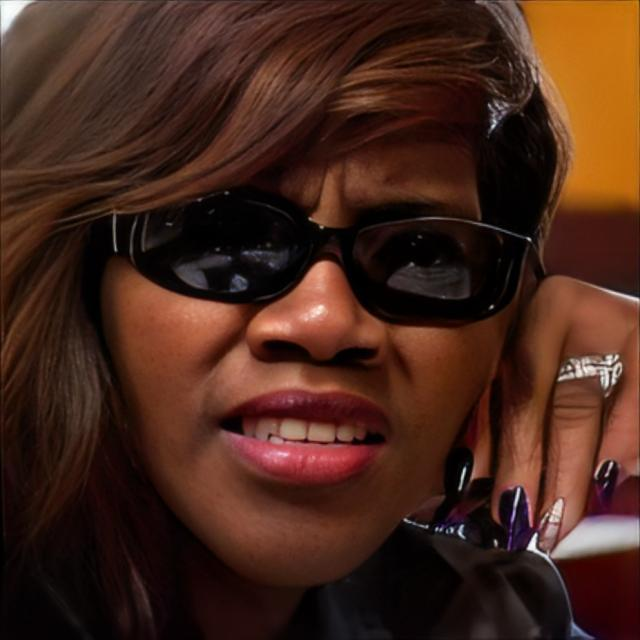disgust: (95, 75, 508, 588)
